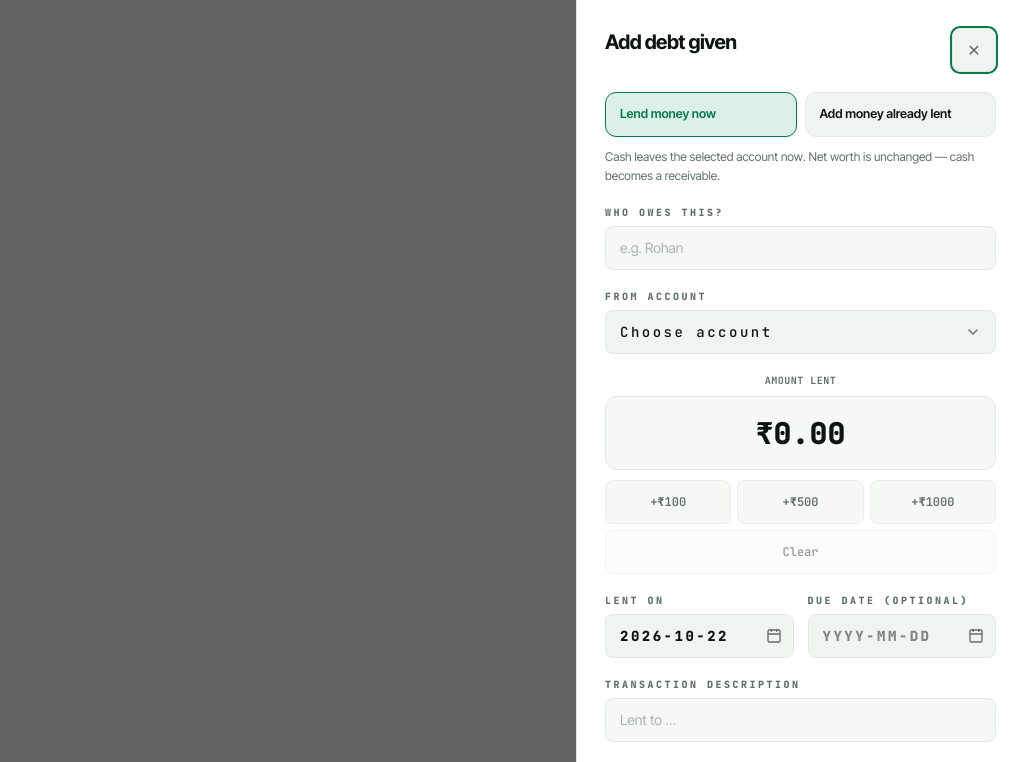
Test: CreateReceivableSheet › disables Save until a counterparty and a positive amount are entered
Click the button "Add money already lent".
click(900, 114)  # box [804, 92, 996, 137]
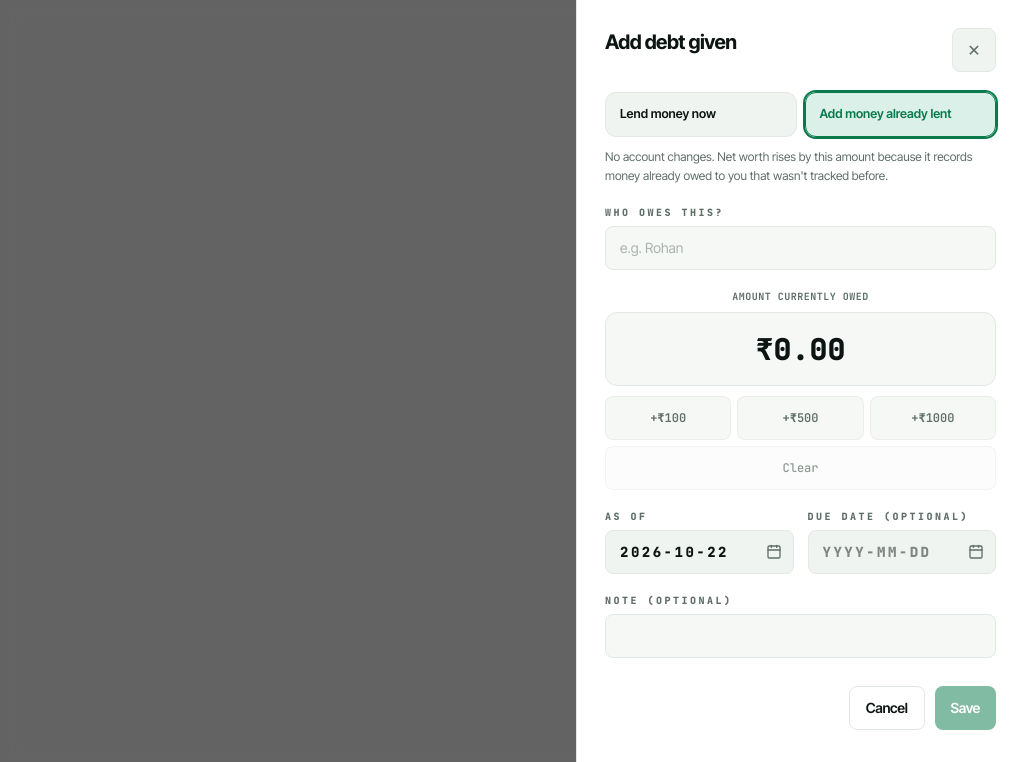
Expected: the button "Save" is disabled, [934, 686, 996, 730]
Type "Rohan" into the field labelled "Who owes this?".
click(800, 248); type("Rohan")  # box [605, 226, 996, 270]
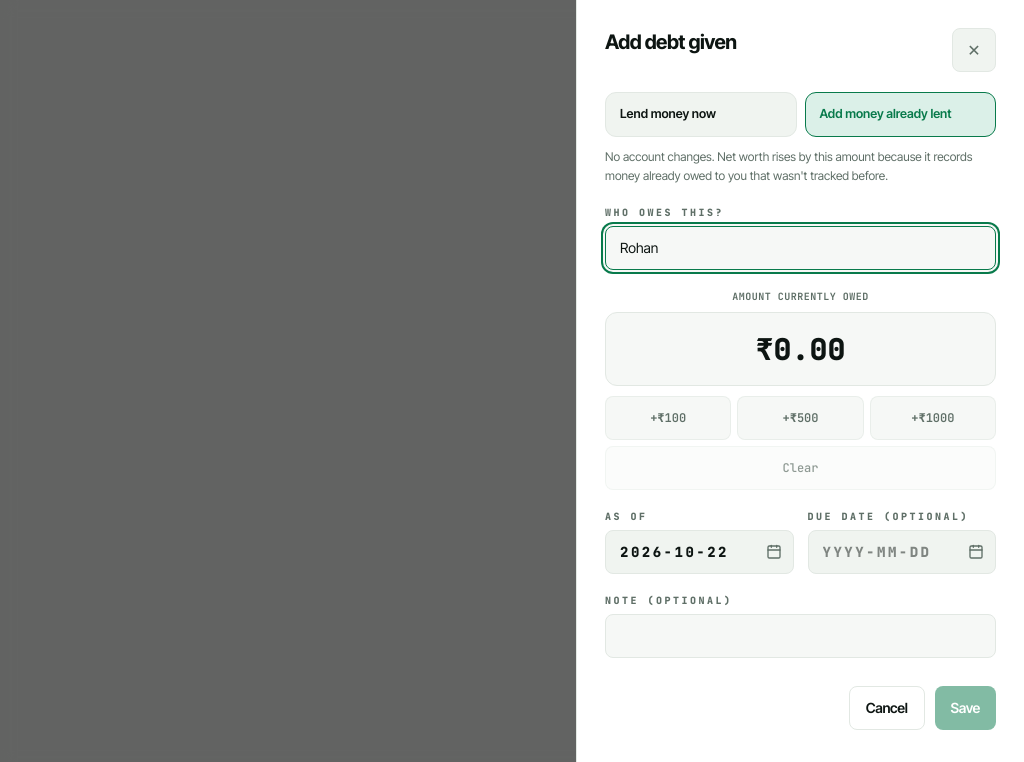
Expected: the button "Save" is disabled, [934, 686, 996, 730]
Replace the text in the field labelled "Amount currently owed" with "10000" at point(800, 349), box [605, 312, 996, 386]
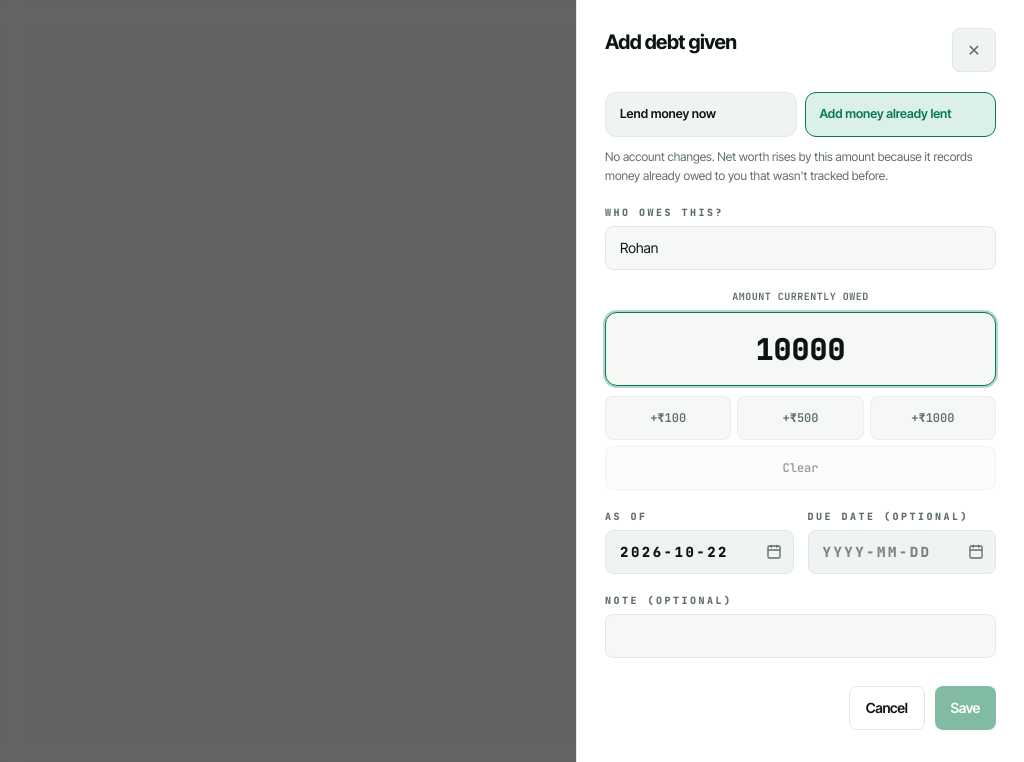
Press Tab
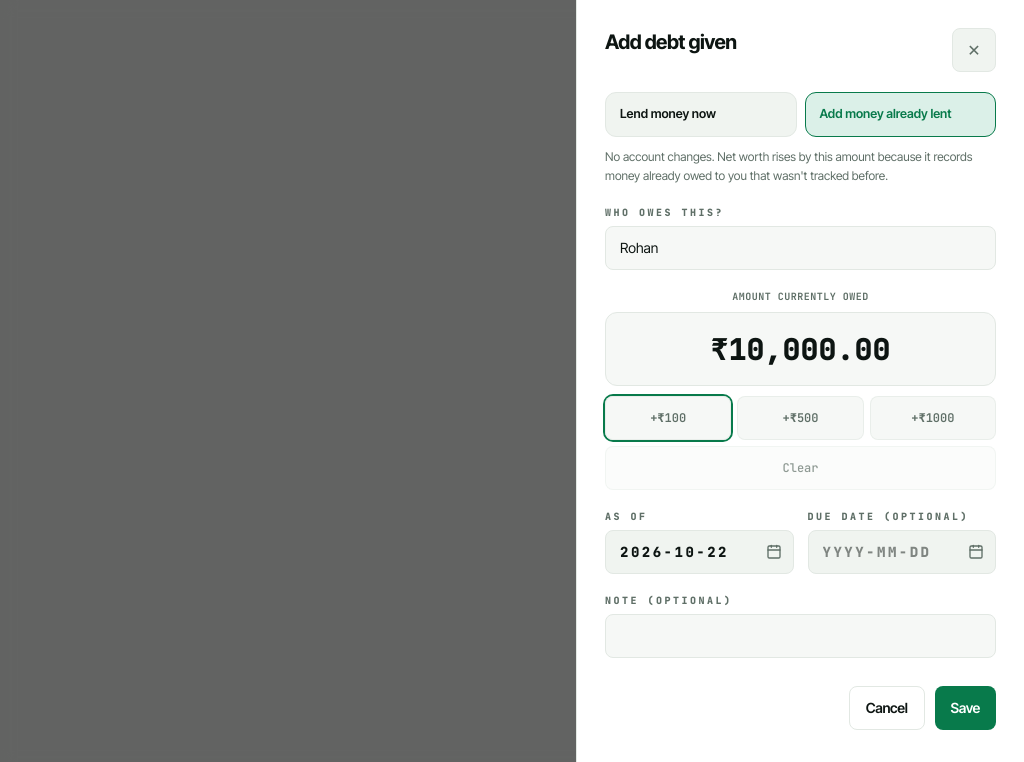
Expected: the button "Save" is enabled, [934, 686, 996, 730]
